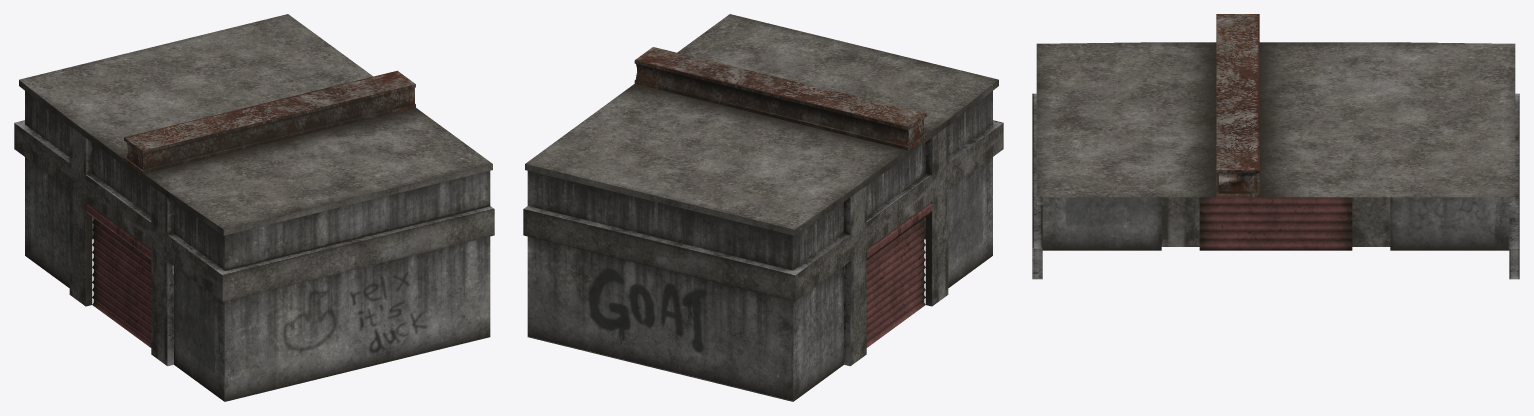
The model's file is Garage.fbx.
The picture shows the model from 3 angles, left to right: view 1: azimuth 30°, elevation 25°; view 2: azimuth 150°, elevation 25°; view 3: azimuth 270°, elevation 25°; orthographic projection. The views are drawn at different scales.
Visible parts, largest first — view 1: Cube.002; view 2: Cube.002; view 3: Cube.002.
Part boxes in pixels (x1,y1,x2,y2): Cube.002: (14,14,494,401); Cube.002: (523,14,1003,401); Cube.002: (1032,14,1519,279).
Bounding box in the file's own units: 193 × 134 × 254.
